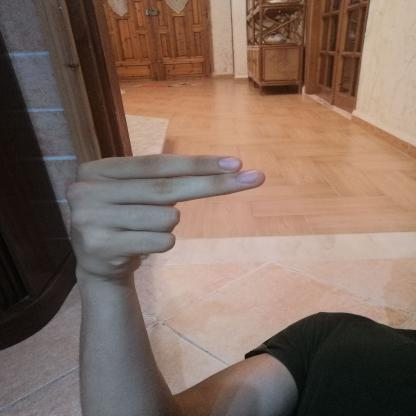AYN: (50, 143, 288, 291)
